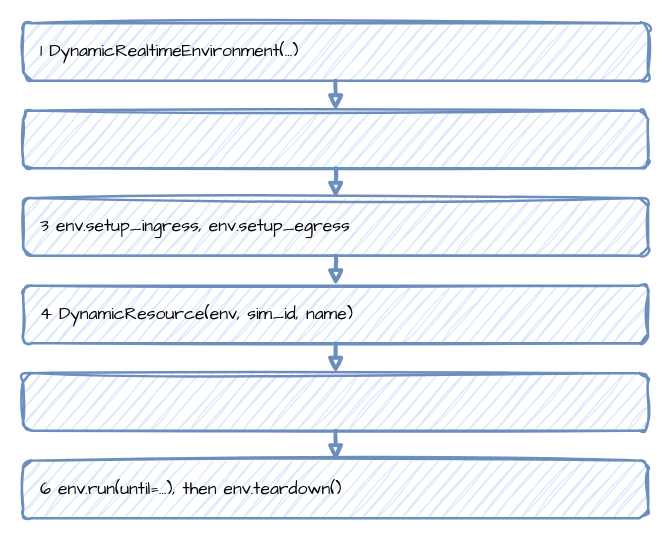
Some shapes in this 670 by 540 pixel diagram are drawn without their labels. The box of each missing label's shape, as (x1, y1, x2, y2) in pixels:
2 env.registry.register_sim_parameter(...): (21, 109, 649, 169)
5 env.process(generator): (21, 371, 649, 431)
